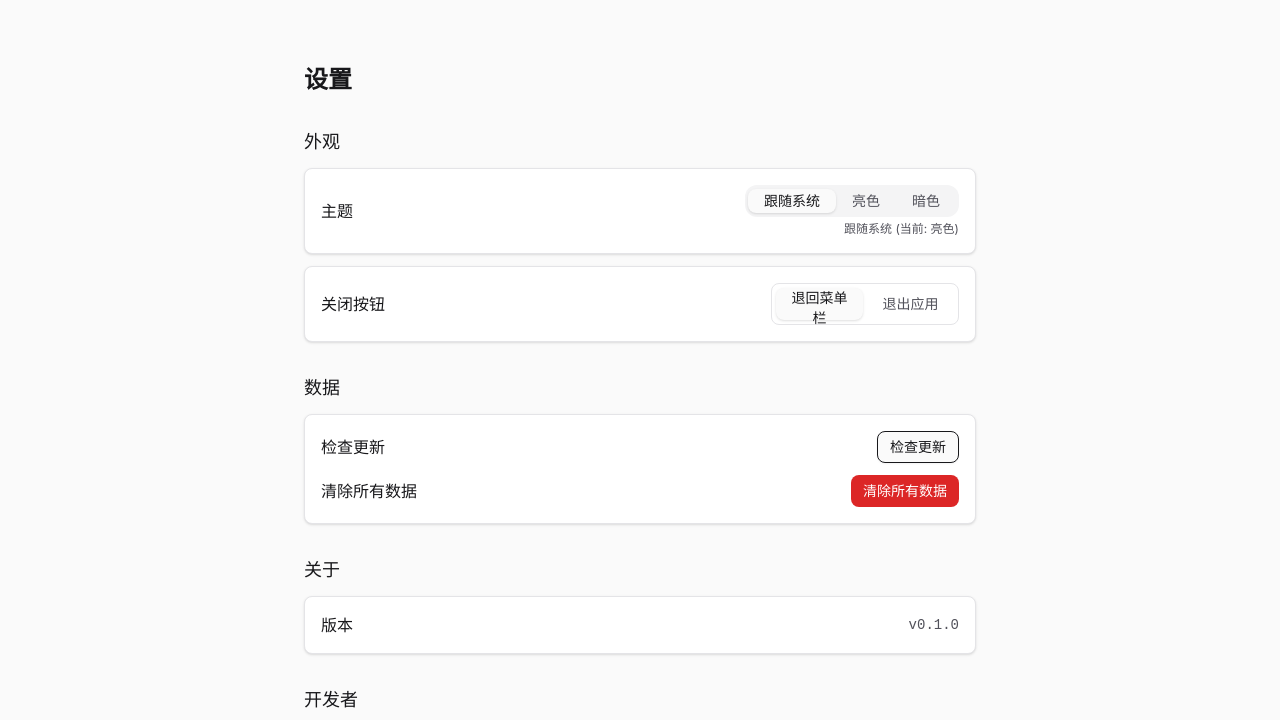
Test case: Settings (S2) › clear-data confirm dialog requires typed expectedText
Click the button "清除所有数据" at (905, 491), box [851,475,959,507]
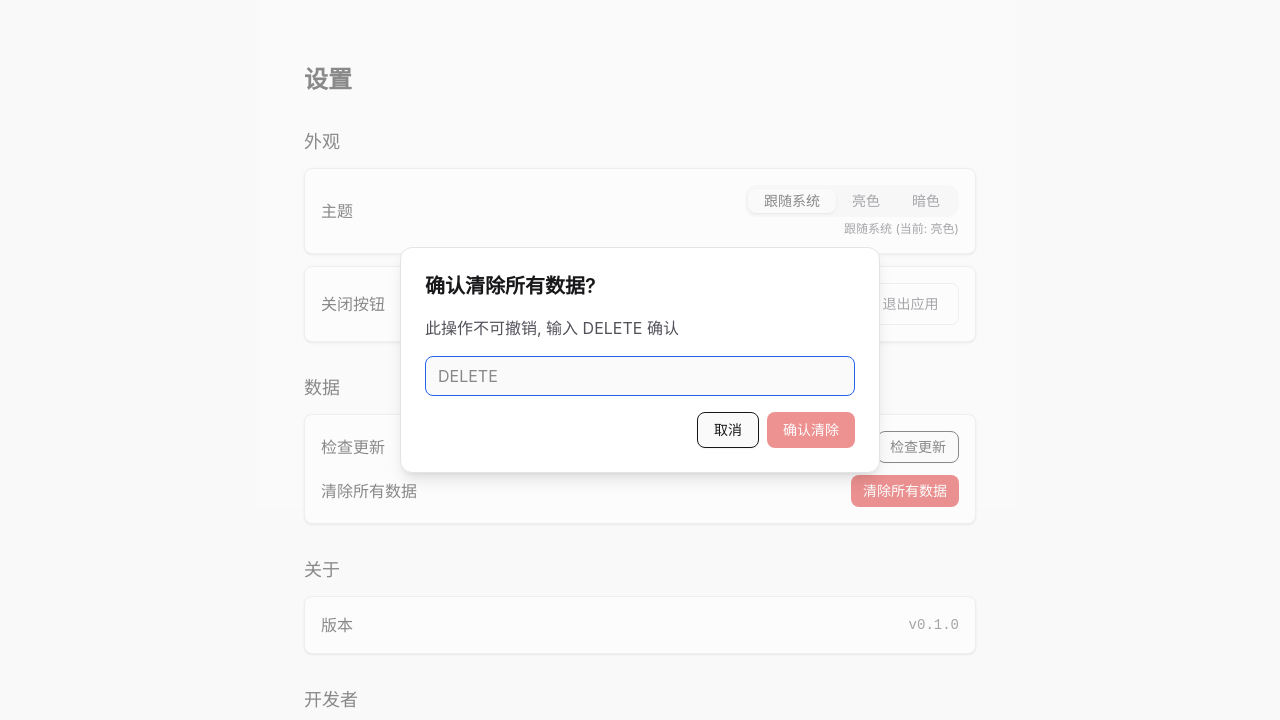
Now the button "确认清除" is disabled, box [767,412,855,448]
Type "wrong-text" into the field with test id "confirm-input" at (640, 376), box [425,356,855,396]
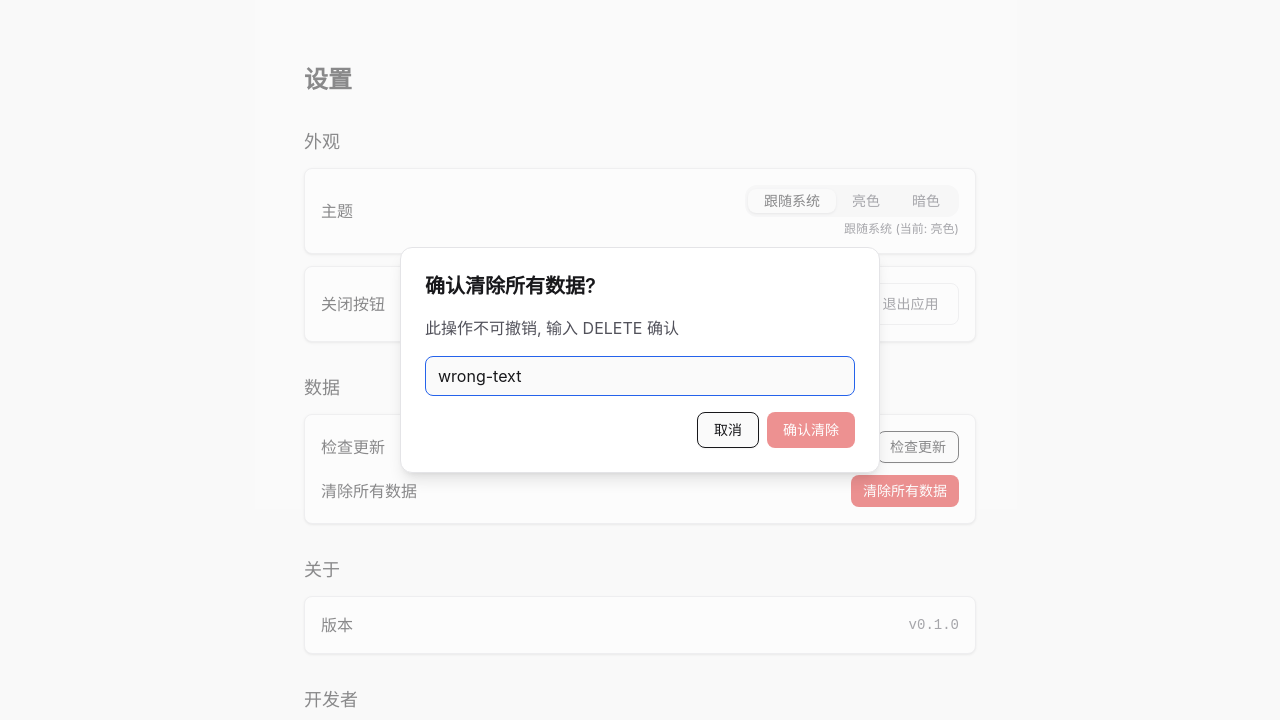
Now the button "确认清除" is disabled, box [767,412,855,448]
Replace the text in the field with test id "confirm-input" with "DELETE" at (640, 376), box [425,356,855,396]
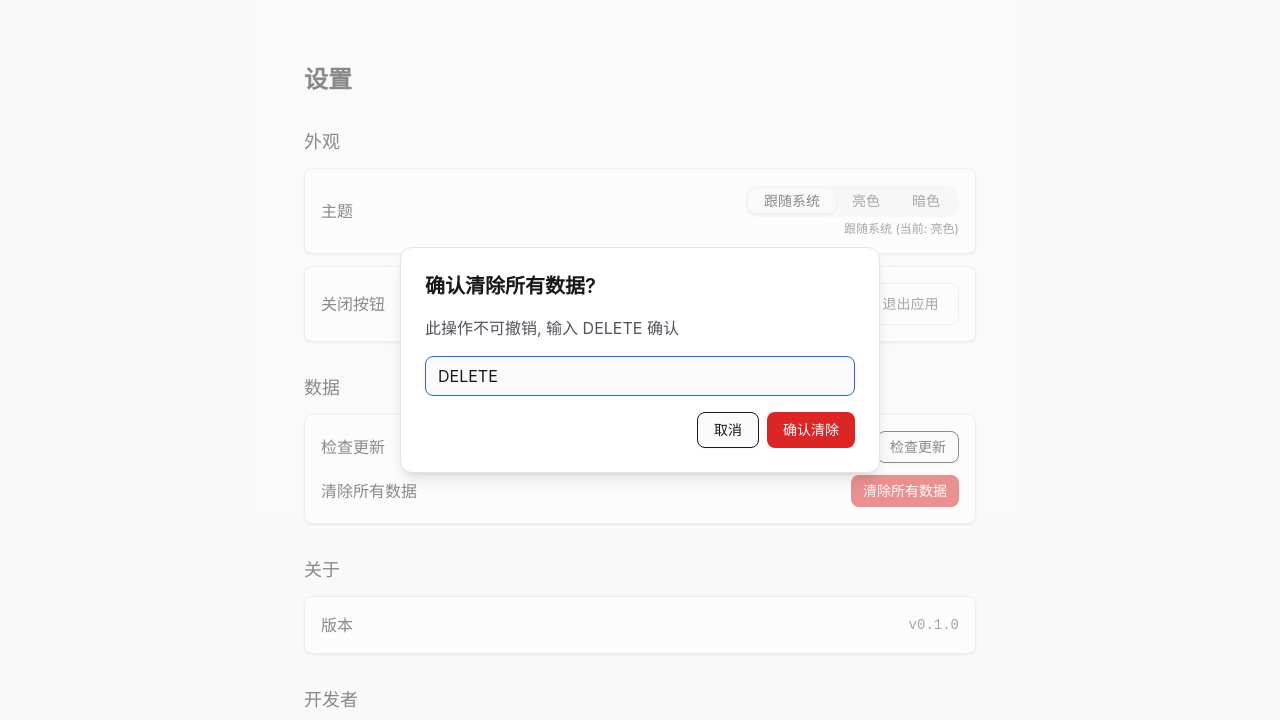
Now the button "确认清除" is enabled, box [767,412,855,448]
